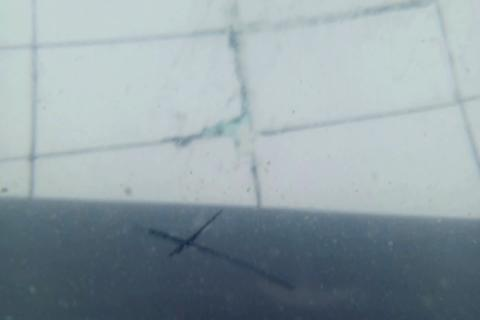keretakan: (136, 209, 297, 296)
